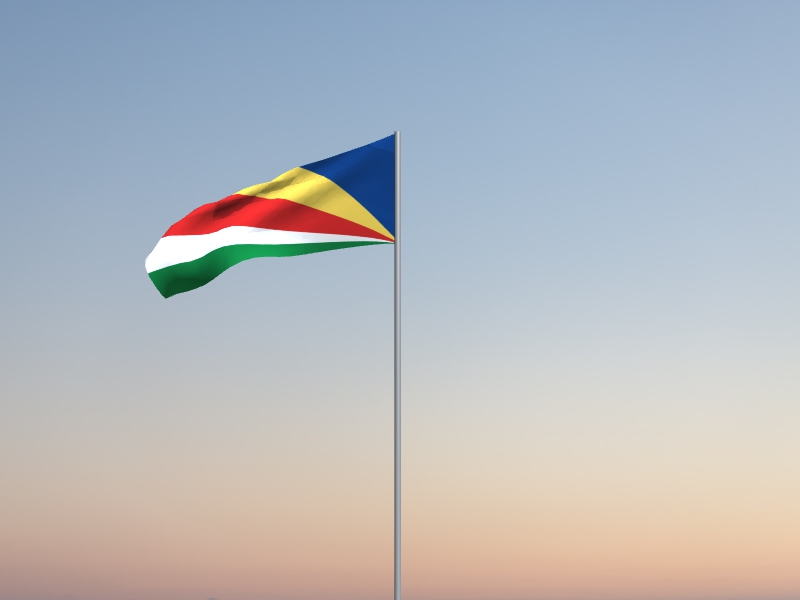sc: (145, 134, 395, 300)
